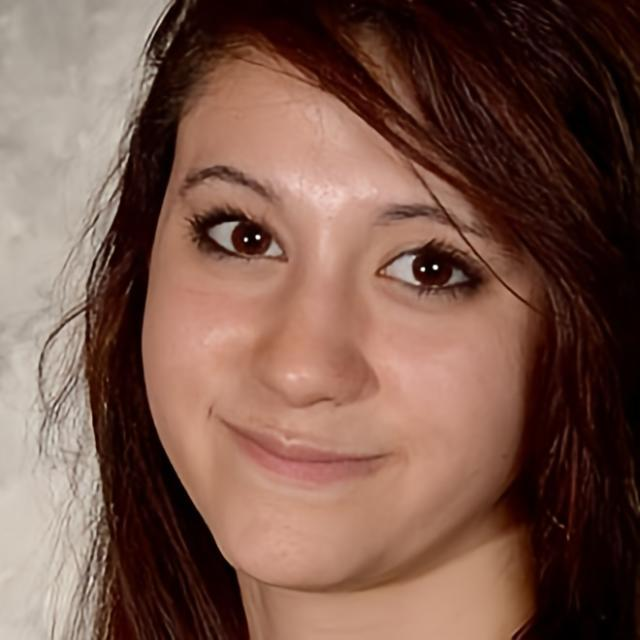happy: (139, 36, 546, 588)
